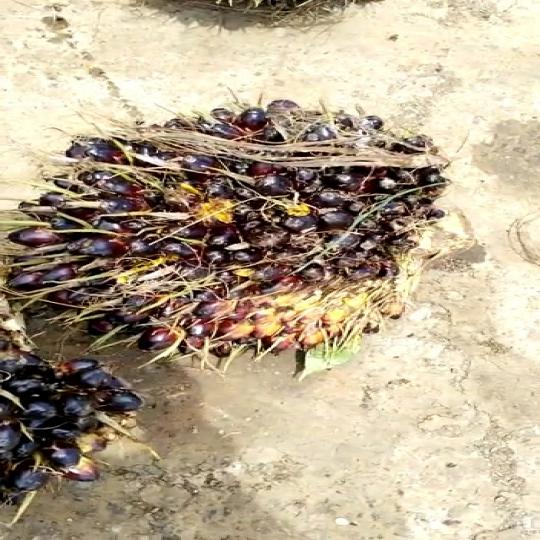mentah: (3, 87, 455, 382)
